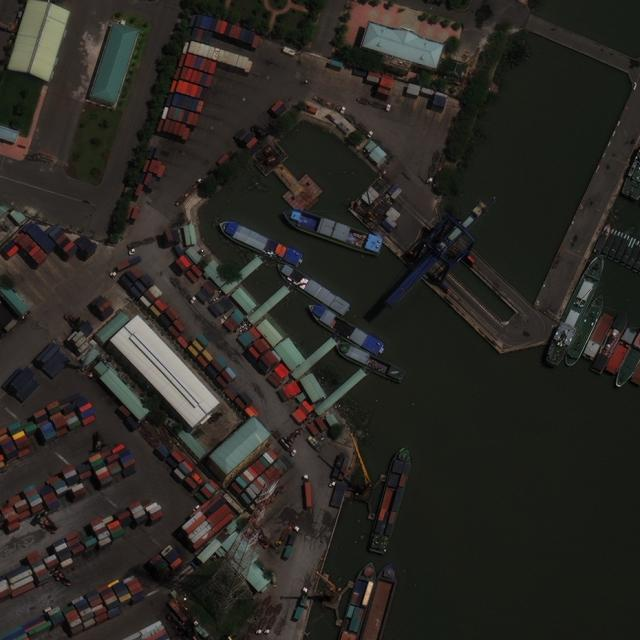Cargo: (278, 204, 385, 259), (302, 300, 387, 362), (271, 258, 354, 321), (213, 217, 308, 272), (330, 338, 406, 387)
Container Ship: (365, 442, 417, 557), (339, 562, 376, 639), (361, 564, 398, 640)
Oil Tanker: (542, 250, 610, 370), (562, 291, 608, 371), (621, 150, 640, 201)
Other Ship: (590, 308, 631, 377), (581, 311, 615, 363), (605, 328, 637, 376), (605, 230, 626, 263), (599, 226, 619, 259), (592, 222, 612, 255), (612, 233, 631, 264), (619, 237, 637, 267), (626, 241, 640, 269), (630, 355, 640, 386), (632, 251, 640, 273)
